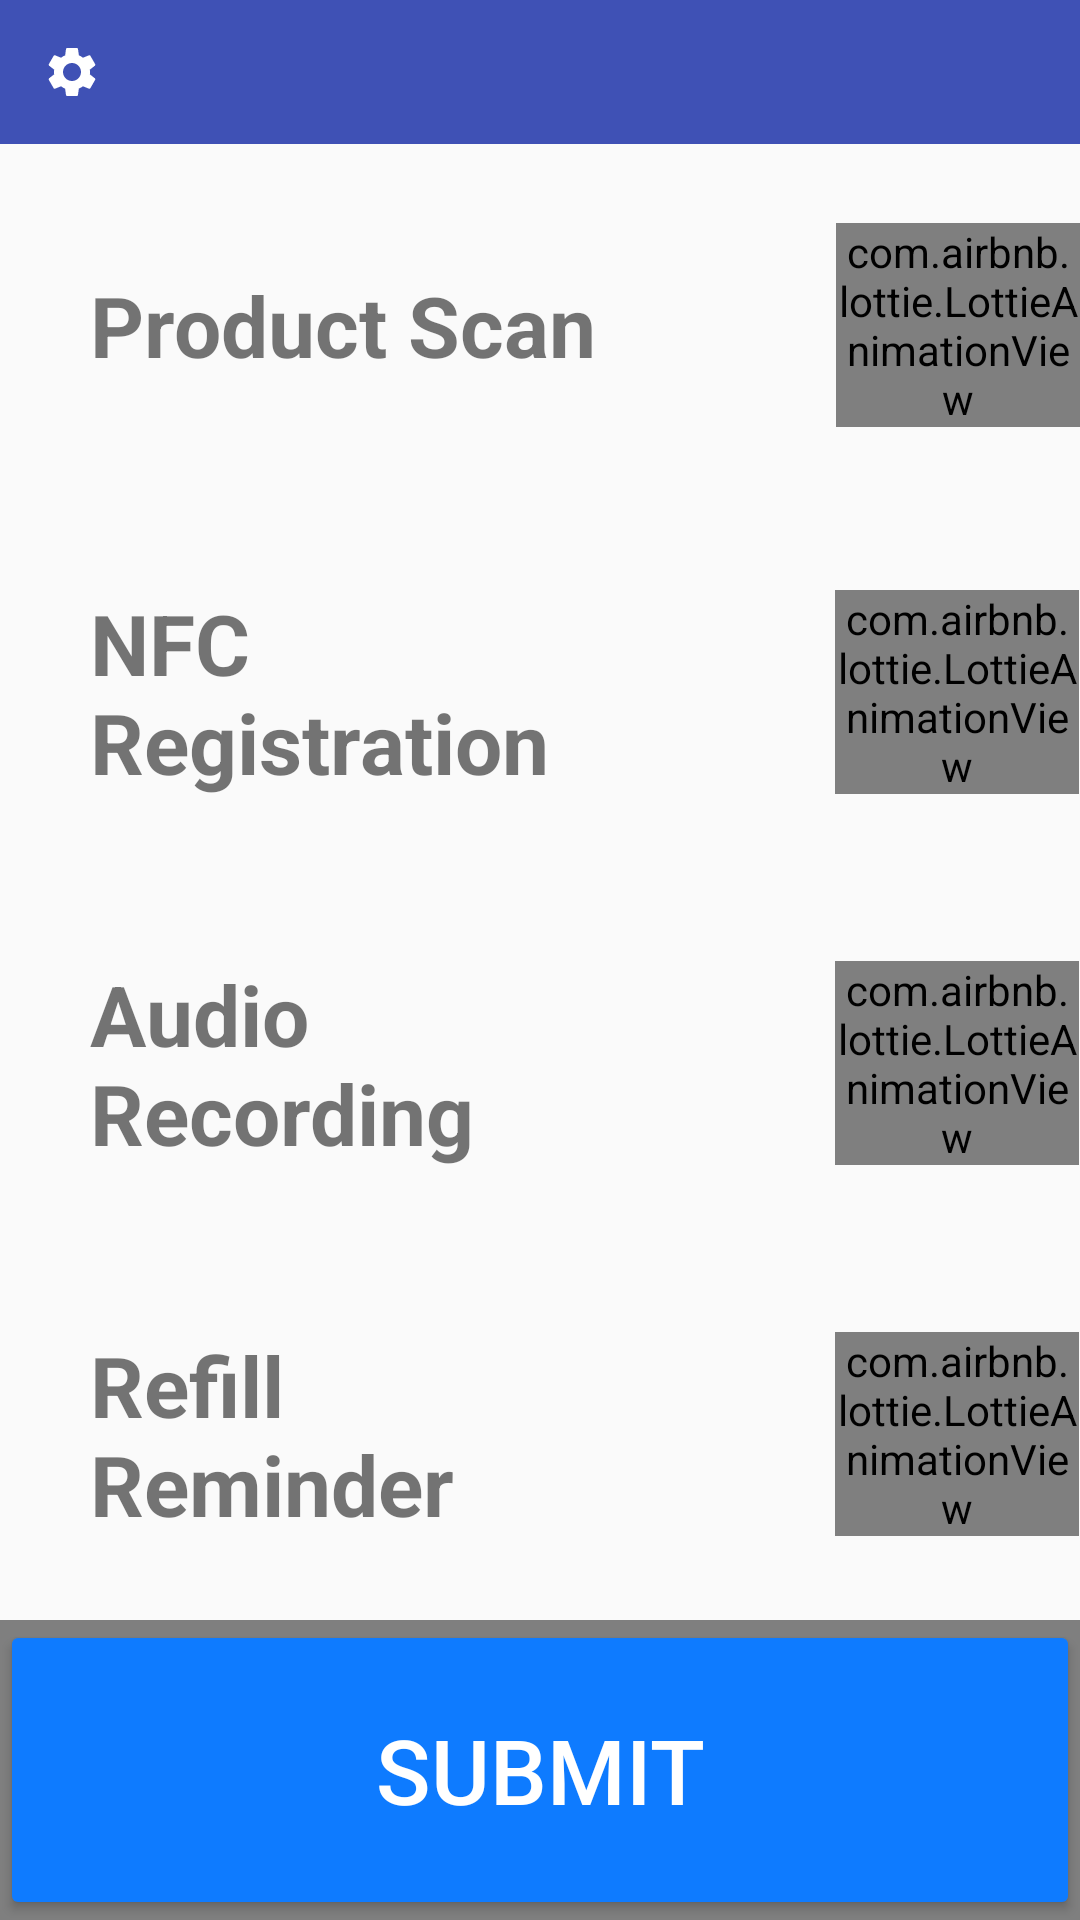

Screen size 1080w x 1920h. Icon name, then its box in pixels as BBox(x1, y1, x2, y2):
settings: BBox(48, 48, 96, 96)
